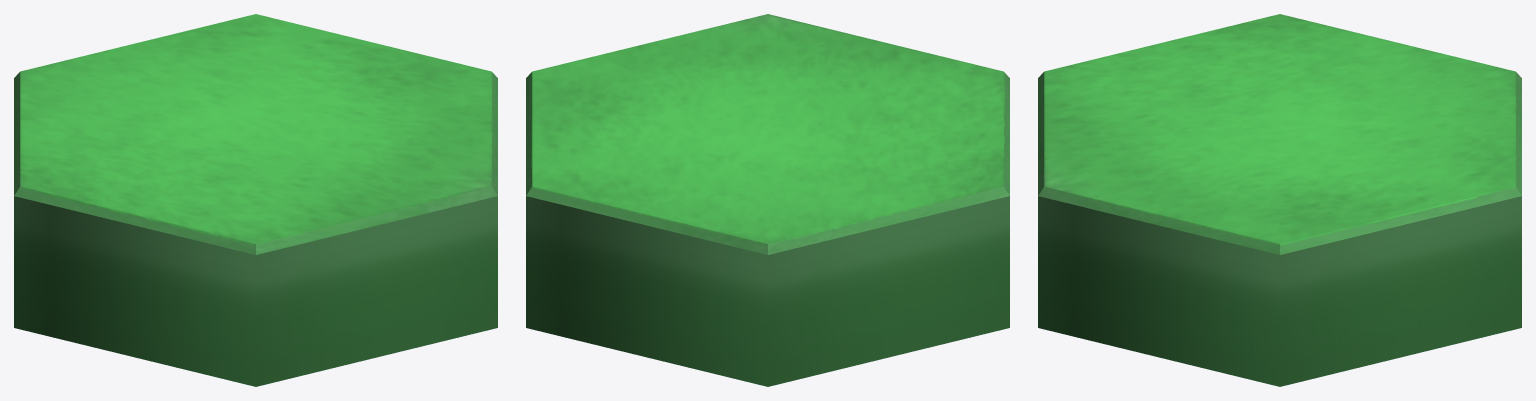
File: TileNew.fbx
The picture shows the model from 3 angles, left to right: view 1: azimuth 30°, elevation 25°; view 2: azimuth 150°, elevation 25°; view 3: azimuth 270°, elevation 25°; orthographic projection.
Parts seen in each view (by area): view 1: Cylinder012; view 2: Cylinder012; view 3: Cylinder012.
Part boxes in pixels (x1=…): Cylinder012: x1=14, y1=14, x2=497, y2=386; Cylinder012: x1=526, y1=14, x2=1009, y2=386; Cylinder012: x1=1038, y1=14, x2=1521, y2=386.
Size of the model in its own units: 1.15 by 0.3167 by 0.9924.
